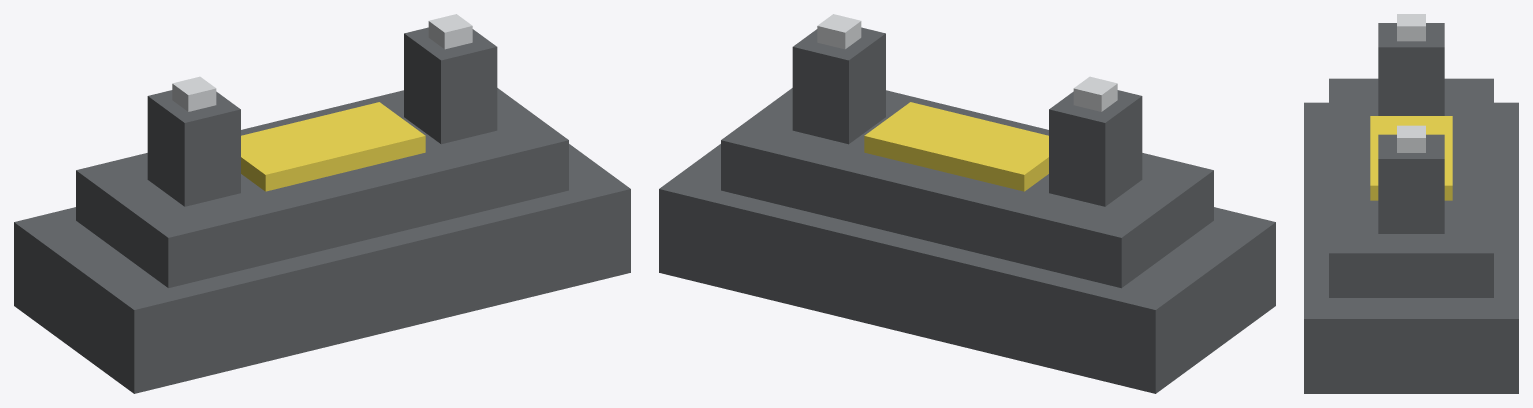
File: demolition-and-site-clearance-demolition-and-site-clea-b547b00c__35672.glb
The picture shows the model from 3 angles, left to right: view 1: azimuth 30°, elevation 25°; view 2: azimuth 150°, elevation 25°; view 3: azimuth 270°, elevation 25°; orthographic projection. The views are drawn at different scales.
Visible parts, largest first — view 1: demolition-and-site-clearance-heras-fence-foot-block; view 2: demolition-and-site-clearance-heras-fence-foot-block; view 3: demolition-and-site-clearance-heras-fence-foot-block.
Part boxes in pixels (<box>): demolition-and-site-clearance-heras-fence-foot-block: <box>14,14,630,393</box>; demolition-and-site-clearance-heras-fence-foot-block: <box>659,14,1275,393</box>; demolition-and-site-clearance-heras-fence-foot-block: <box>1304,14,1518,393</box>.
Size of the model in its own units: 0.62 by 0.28 by 0.26.
